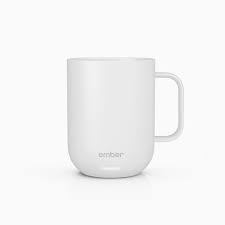mug: (52, 49, 188, 184)
